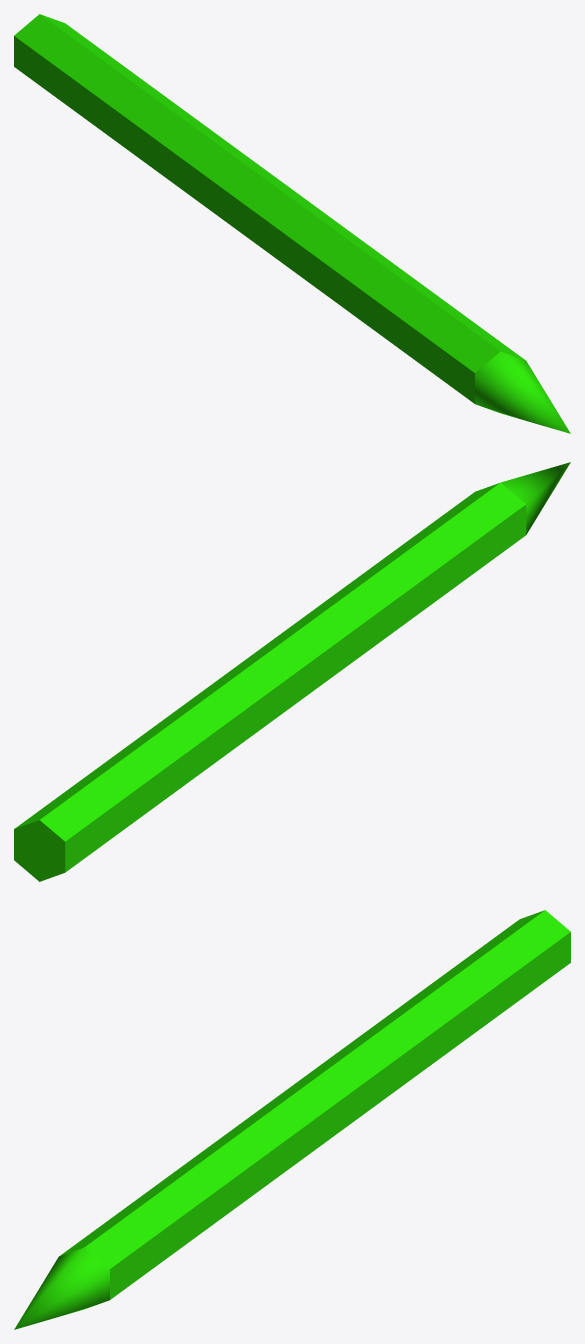
Rendered from Pen_06.fbx.
The picture shows the model from 3 angles, top to bottom: view 1: azimuth 30°, elevation 25°; view 2: azimuth 150°, elevation 25°; view 3: azimuth 330°, elevation 25°; orthographic projection.
Parts seen in each view (by area): view 1: Pen_06; view 2: Pen_06; view 3: Pen_06.
Boxes of the visible parts, x1=… form: Pen_06: x1=14, y1=14, x2=570, y2=433; Pen_06: x1=14, y1=462, x2=570, y2=881; Pen_06: x1=14, y1=910, x2=570, y2=1329.
Size of the model in its own units: 0.8315 by 0.9602 by 14.93.
